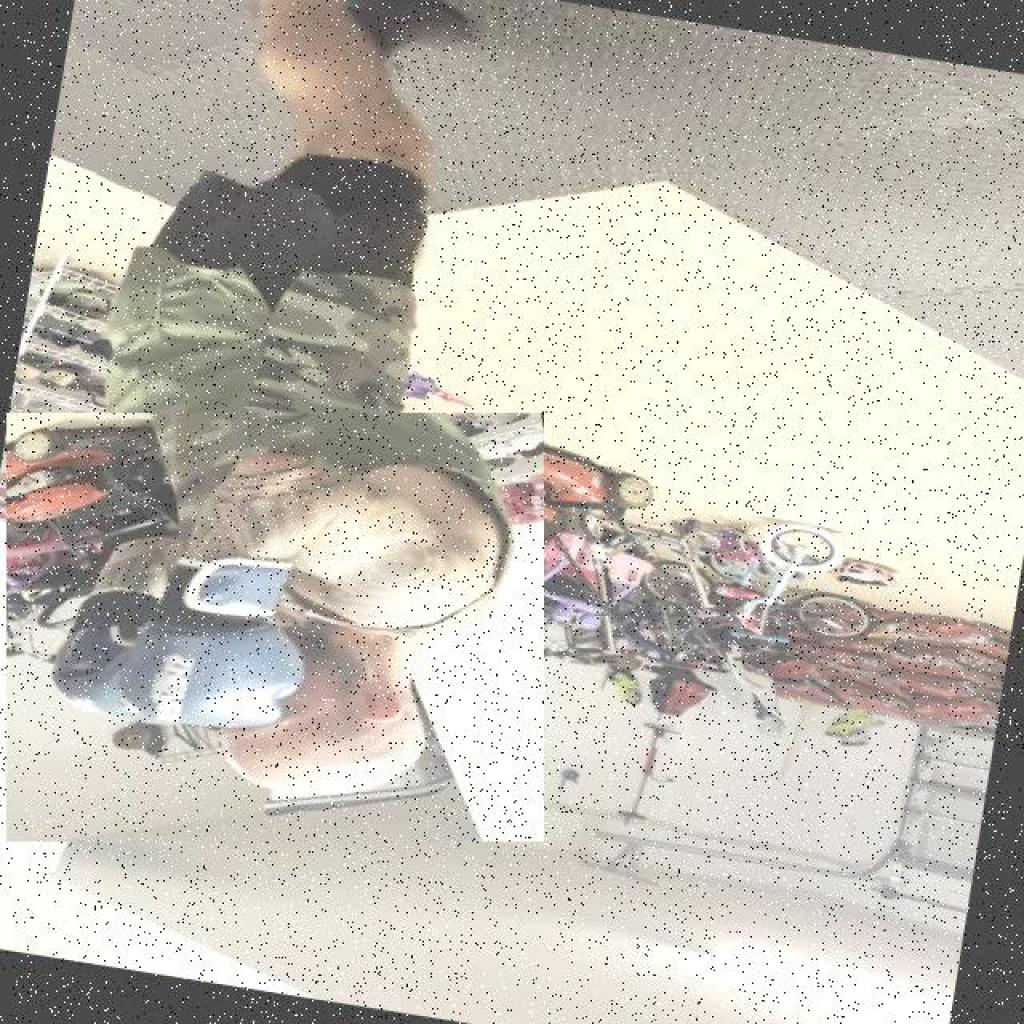no punch: (6, 413, 544, 842)
